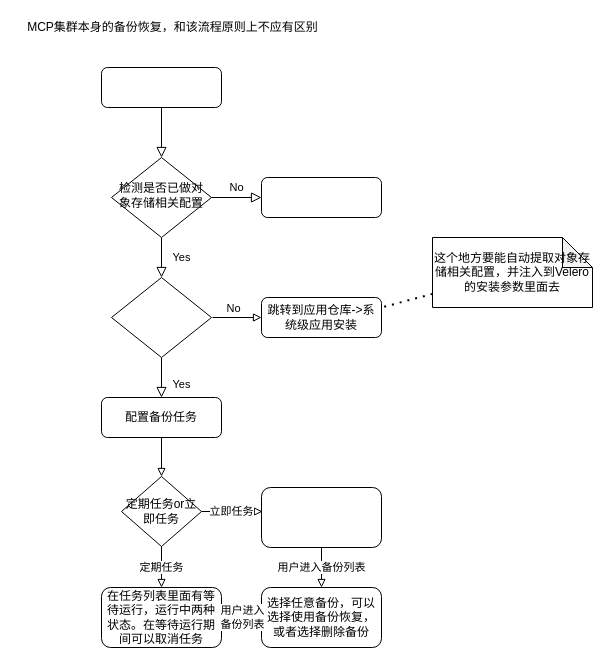
This 610x665 diagram has some shape labels left out. Here are the shapes that lost their labels. From the top down, the centre of each, then its label:
At pixel 161 87: "备份集群任务创建".
At pixel 321 197: "跳转到系统设置->对象存储设置".
At pixel 161 317: "检测集群内是否安装Velero server".
At pixel 321 517: "在任务列表里面只有进行中和已结束两种状态。不能取消任务".
